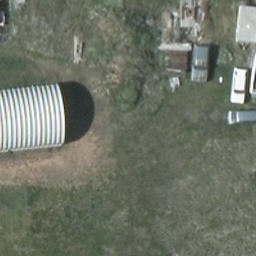car: (191, 45, 219, 85), (228, 69, 253, 104)
